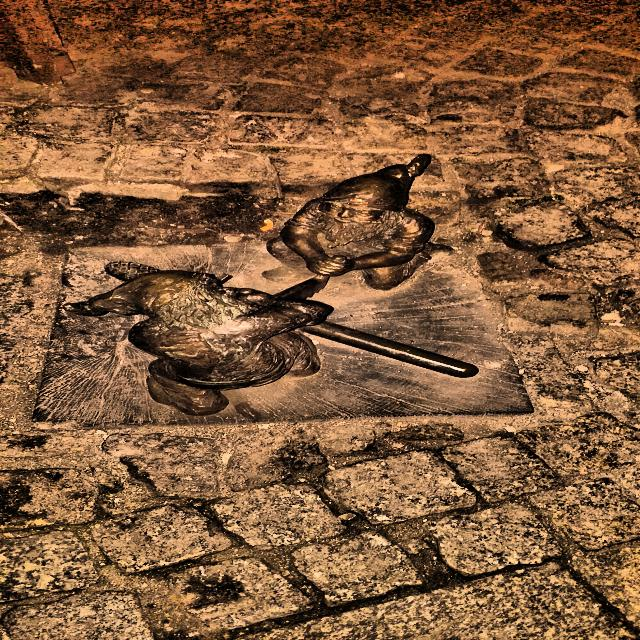Wyrostek i Zadymek: (62, 154, 478, 415)
